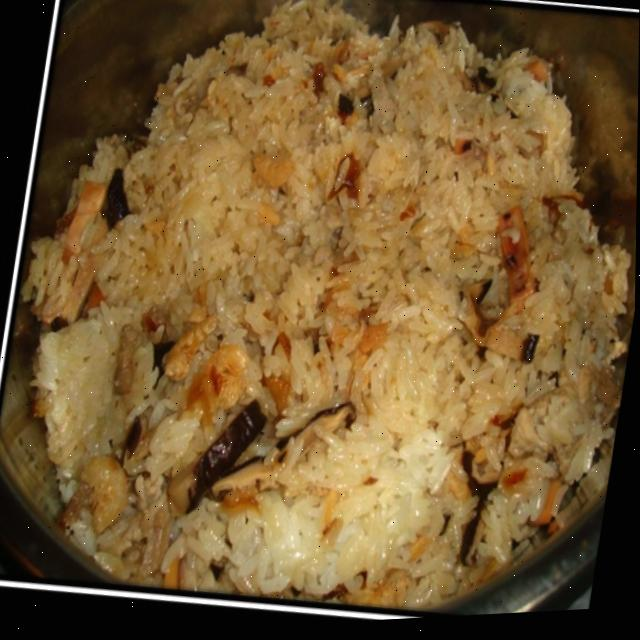米饭主食: (5, 0, 640, 638)
